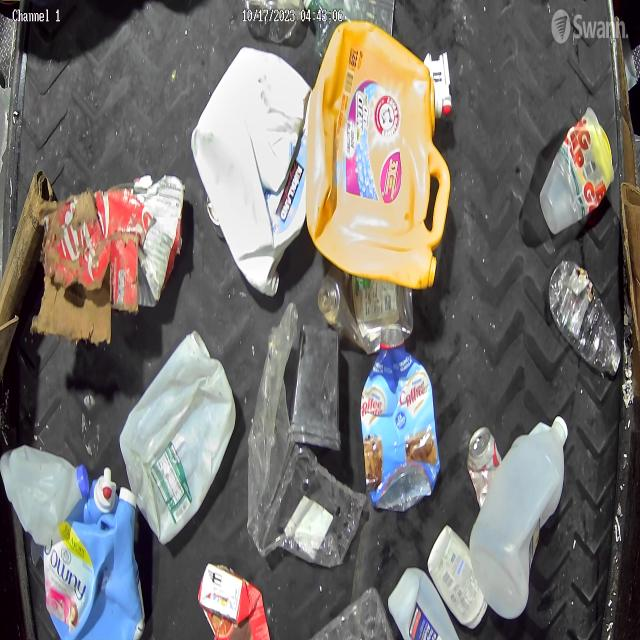can: (466, 424, 503, 512)
milk_jug: (191, 46, 310, 298), (118, 340, 236, 546), (470, 417, 569, 616), (1, 445, 91, 549), (389, 567, 470, 640)
non_white_jug: (306, 25, 445, 294), (46, 466, 143, 636)
plastic_bottle: (548, 257, 621, 375)
